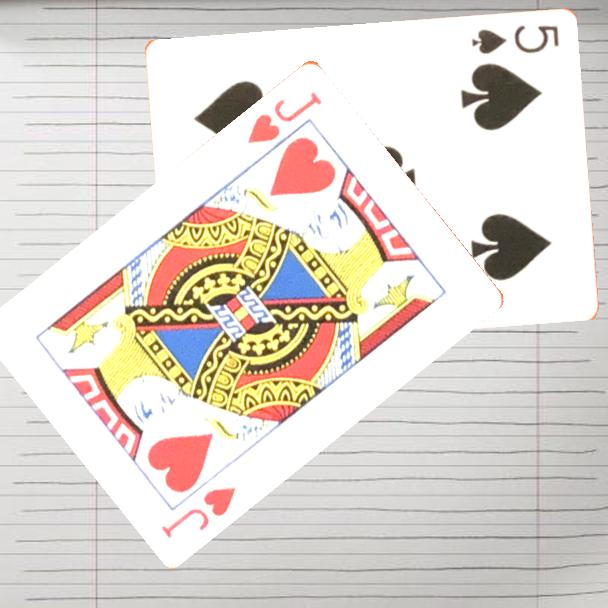h11: (243, 87, 325, 146), (157, 482, 239, 541)
s05: (468, 22, 561, 58)
